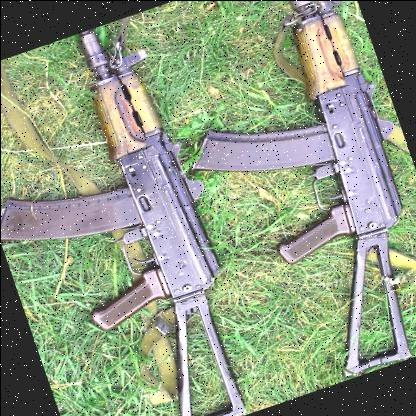rifle: (140, 0, 416, 397), (0, 13, 271, 416)
